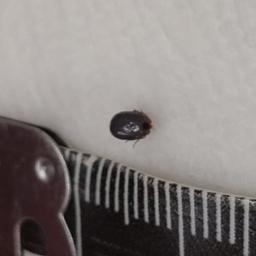Rhipicephalus sanguineus: (108, 108, 153, 148)
